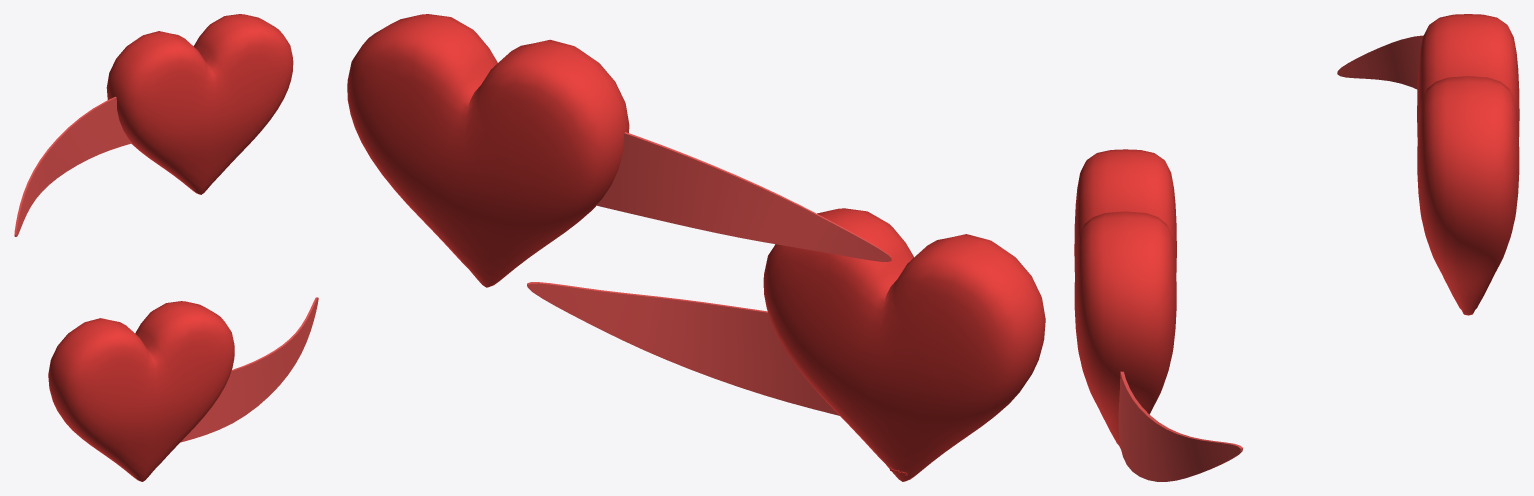
File: revolving_hearts.glb
The picture shows the model from 3 angles, left to right: view 1: azimuth 30°, elevation 25°; view 2: azimuth 150°, elevation 25°; view 3: azimuth 270°, elevation 25°; orthographic projection. The views are drawn at different scales.
Visible parts, largest first — view 1: hfdjkslfjkds.008; view 2: hfdjkslfjkds.008; view 3: hfdjkslfjkds.008.
Part boxes in pixels (x1,y1,x2,y2): hfdjkslfjkds.008: (14,14,318,481); hfdjkslfjkds.008: (347,14,1045,481); hfdjkslfjkds.008: (1074,14,1519,481).
Size of the model in its own units: 1.82 by 1.7 by 1.3.
Materials: 1 (1 with a texture image).
